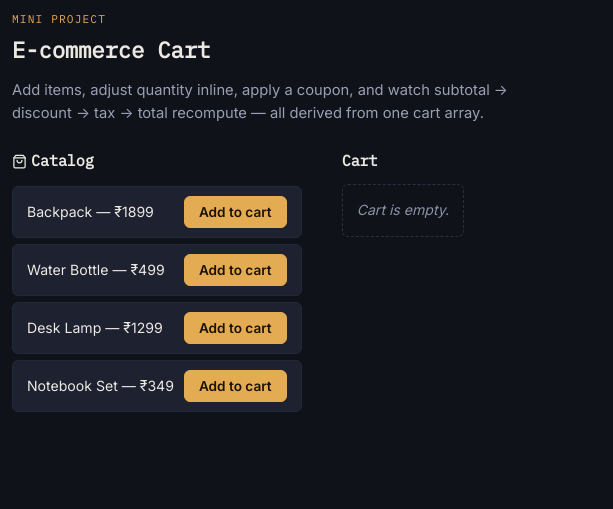
Scenario: Task20_EcommerceCart › adds an item to the cart and shows a tax-inclusive total
This screenshot has width=613, height=509.
Click the button "Add to cart" in the row of "Backpack" at (235, 212), box [184,196,287,228]
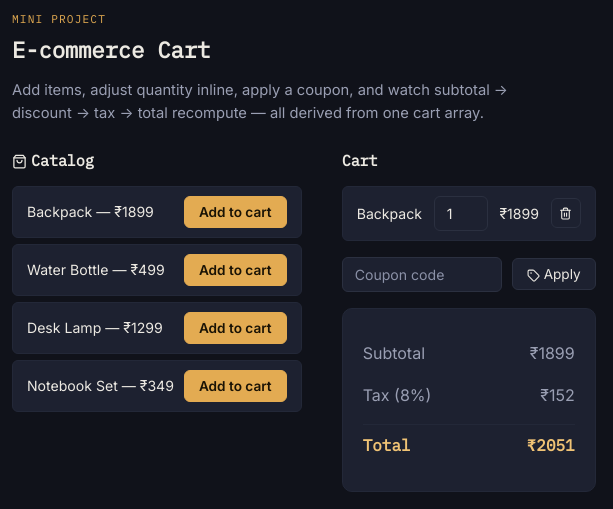
Check: the element with class "cart-total" shows "2051", box [536,435,575,455]
